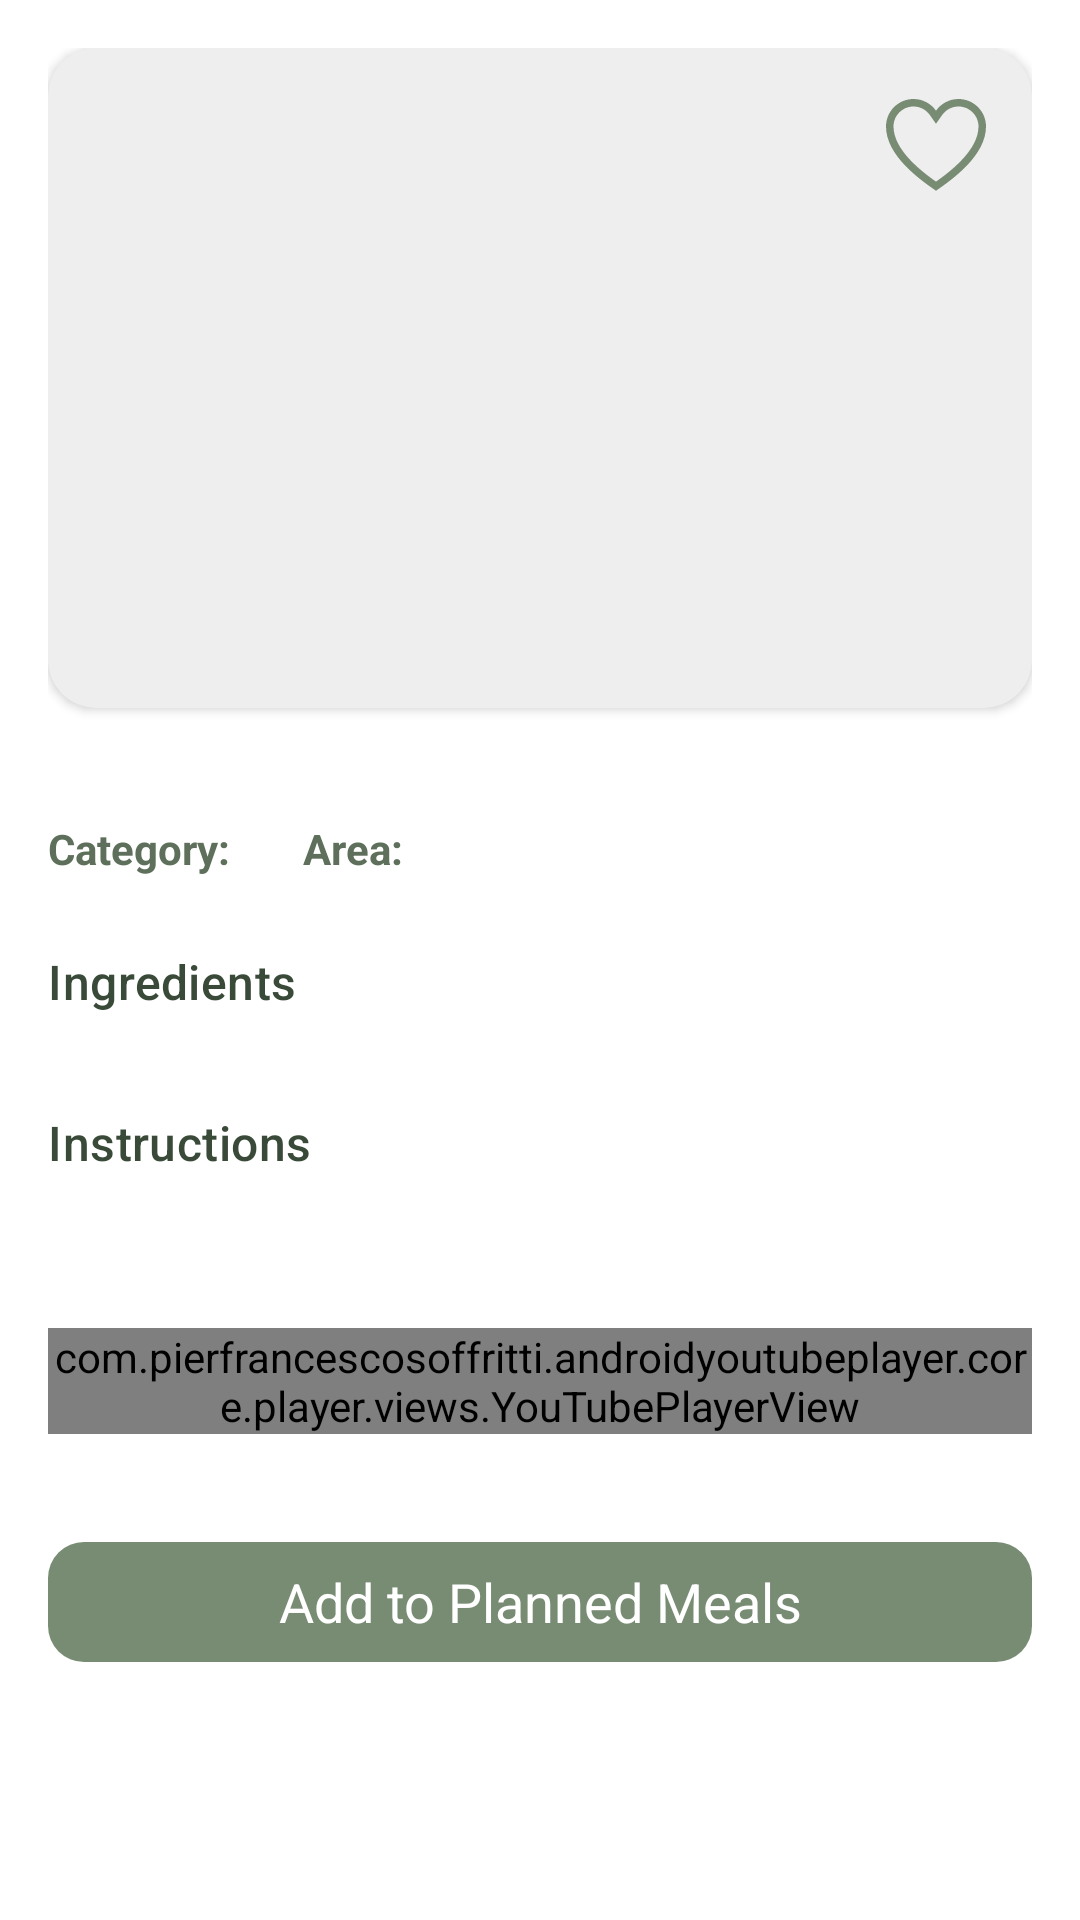

Icon click points for this 1080 × 1920 phone screenshot, format (x=x, y=y):
Add to Favorites: (x=936, y=145)
